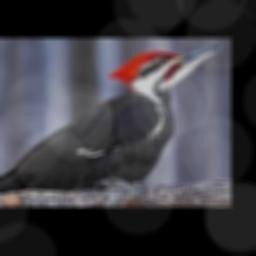Woodpecker: (0, 45, 223, 199)
